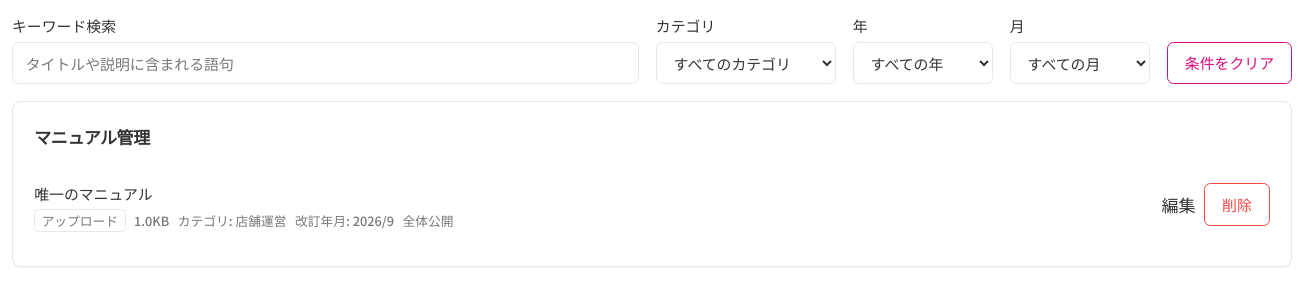
ManualManagementListClient › 該当するマニュアルが0件のとき、該当なしメッセージを表示する
The width and height of the screenshot is (1304, 284).
Type "存在しないキーワード" into the field labelled "キーワード検索" at {"x": 325, "y": 63}, box [12,42,639,84]
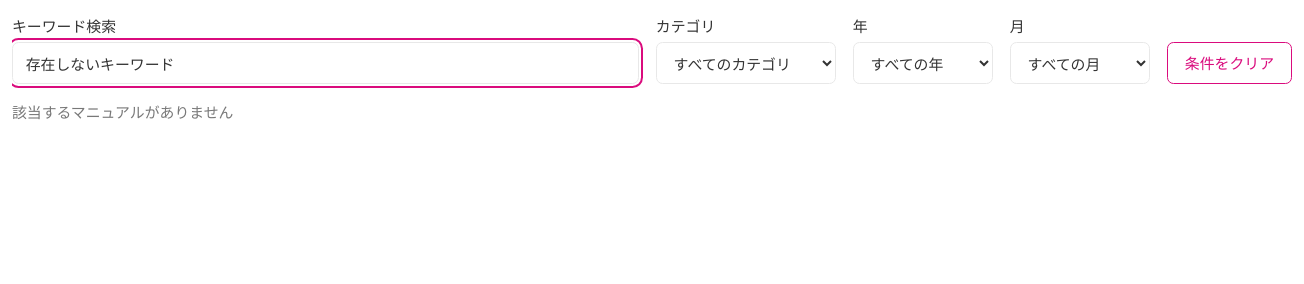
Expected: the text "唯一のマニュアル" is gone
Expected: the text "該当するマニュアルがありません" is shown, [12,101,233,122]
